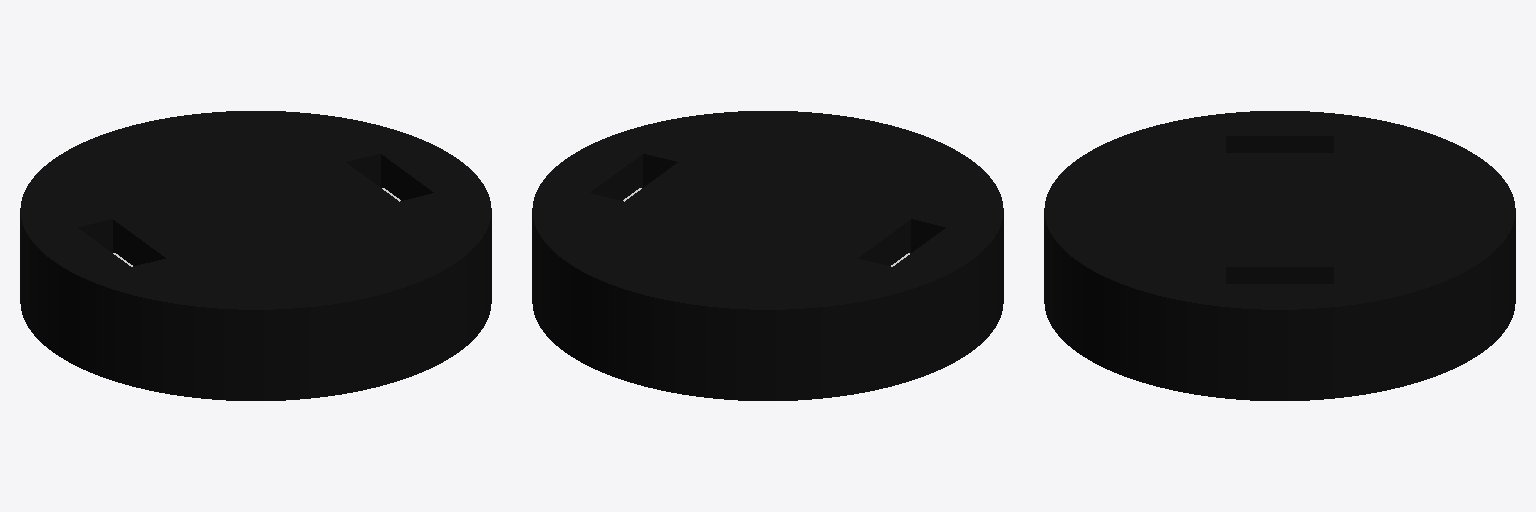
URDF robot description (turtle):
<?xml version="1.0"?>
<robot name="turtle">

<material name="black">
  <color rgba="0.1 0.1 0.1 1"/>
</material>

<material name="white">
  <color rgba="0.9 0.9 0.9 1"/>
</material>


  <link name="base">
    <visual>
      <origin rpy="0 0 0" xyz="0 0 -0.0505"/>
      <geometry>
    	<mesh filename="package://rl_turtle/meshes/kobuki-base.stl" scale="0.001 0.001 0.001"/>
      </geometry>
      <material name="black"/>
    </visual>
    
    <collision>
     <origin rpy="0 0 0" xyz="0 0 0"/>
      <geometry>
        <mesh filename="package://rl_turtle/meshes/kobuki-base.stl" scale="0.001 0.001 0.001"/>
      </geometry>
    </collision>
    
    <inertial>
      <mass value="10"/>
      <inertia ixx="0.4" ixy="0.0" ixz="0.0" iyy="0.4" iyz="0.0" izz="0.2"/>
    </inertial>
  </link>
  
  <link name="wheel_holder_1">
    <visual>
      <origin rpy="0 0 0" xyz="-0.115 0 -0.070"/>
      <geometry>
    	<mesh filename="package://rl_turtle/meshes/kobuki-wheel-holder-1.stl" scale="0.001 0.001 0.001"/>
      </geometry>
      <material name="white"/>
    </visual>
    
    <collision>
     <origin rpy="0 0 0" xyz="-0.115 0 -0.070"/>
      <geometry>
        <mesh filename="package://rl_turtle/meshes/kobuki-wheel-holder-1.stl" scale="0.001 0.001 0.001"/>
      </geometry>
    </collision>
    
    <inertial>
      <mass value="10"/>
      <inertia ixx="0.4" ixy="0.0" ixz="0.0" iyy="0.4" iyz="0.0" izz="0.2"/>
    </inertial>
  </link>
  
  <link name="wheel_holder_2">
    <visual>
      <origin rpy="0 0 0" xyz="-0.115 0 -0.070"/>
      <geometry>
    	<mesh filename="package://rl_turtle/meshes/kobuki-wheel-holder-1.stl" scale="0.001 0.001 0.001"/>
      </geometry>
      <material name="white"/>
    </visual>
    
    <collision>
     <origin rpy="0 0 0" xyz="-0.115 0 -0.070"/>
      <geometry>
        <mesh filename="package://rl_turtle/meshes/kobuki-wheel-holder-1.stl" scale="0.001 0.001 0.001"/>
      </geometry>
    </collision>
    
    <inertial>
      <mass value="10"/>
      <inertia ixx="0.4" ixy="0.0" ixz="0.0" iyy="0.4" iyz="0.0" izz="0.2"/>
    </inertial>
  </link>
  
  <link name="wheel_1">
    <visual>
      <origin rpy="0 0 0" xyz="-0.115 0 -0.0335"/>
      <geometry>
    	<mesh filename="package://rl_turtle/meshes/kobuki-wheel-1.stl" scale="0.001 0.001 0.001"/>
      </geometry>
      <material name="black"/>
    </visual>
    
    <collision>
     <origin rpy="0 0 0" xyz="-0.115 0 -0.0335"/>
      <geometry>
        <mesh filename="package://rl_turtle/meshes/kobuki-wheel-1.stl" scale="0.001 0.001 0.001"/>
      </geometry>
    </collision>
    
    <inertial>
      <mass value="10"/>
      <inertia ixx="0.4" ixy="0.0" ixz="0.0" iyy="0.4" iyz="0.0" izz="0.2"/>
    </inertial>
  </link>
  
  
  <link name="wheel_2">
    <visual>
      <origin rpy="0 0 0" xyz="-0.115 0 -0.0335"/>
      <geometry>
    	<mesh filename="package://rl_turtle/meshes/kobuki-wheel-1.stl" scale="0.001 0.001 0.001"/>
      </geometry>
      <material name="black"/>
    </visual>
    
    <collision>
     <origin rpy="0 0 0" xyz="-0.115 0 -0.0335"/>
      <geometry>
        <mesh filename="package://rl_turtle/meshes/kobuki-wheel-1.stl" scale="0.001 0.001 0.001"/>
      </geometry>
    </collision>
    
    <inertial>
      <mass value="10"/>
      <inertia ixx="0.4" ixy="0.0" ixz="0.0" iyy="0.4" iyz="0.0" izz="0.2"/>
    </inertial>
  </link>
  
  
   <link name="small-wheel-1">
    <visual>
      <origin rpy="0 0 0" xyz="0 0.114 -0.013"/>
      <geometry>
    	<mesh filename="package://rl_turtle/meshes/kobuki-small-wheel-1.stl" scale="0.001 0.001 0.001"/>
      </geometry>
      <material name="black"/>
    </visual>
    
    <collision>
     <origin rpy="0 0 0" xyz="0 0.114 -0.013"/>
      <geometry>
        <mesh filename="package://rl_turtle/meshes/kobuki-small-wheel-1.stl" scale="0.001 0.001 0.001"/>
      </geometry>
    </collision>
    
    <inertial>
      <mass value="10"/>
      <inertia ixx="0.4" ixy="0.0" ixz="0.0" iyy="0.4" iyz="0.0" izz="0.2"/>
    </inertial>
  </link>
  
  <link name="small-wheel-2">
    <visual>
      <origin rpy="0 0 0" xyz="0 0.114 -0.013"/>
      <geometry>
    	<mesh filename="package://rl_turtle/meshes/kobuki-small-wheel-1.stl" scale="0.001 0.001 0.001"/>
      </geometry>
      <material name="black"/>
    </visual>
    
    <collision>
     <origin rpy="0 0 0" xyz="0 0.114 -0.013"/>
      <geometry>
        <mesh filename="package://rl_turtle/meshes/kobuki-small-wheel-1.stl" scale="0.001 0.001 0.001"/>
      </geometry>
    </collision>
    
    <inertial>
      <mass value="10"/>
      <inertia ixx="0.4" ixy="0.0" ixz="0.0" iyy="0.4" iyz="0.0" izz="0.2"/>
    </inertial>
  </link>
  
  <joint name="slider1" type="prismatic">
    <parent link="base"/>
    <axis xyz="0 0 1"/>
    <child link="wheel_holder_1"/>
    <dynamics damping="10.0" friction="5.0"/>
    <limit effort="1000.0" lower="-0.009" upper="0.020" velocity="0.5"/>
    <origin rpy="0 0 0" xyz="0.115 0 0.0095"/>
  </joint>
  
  <joint name="slider2" type="prismatic">
    <parent link="base"/>
    <axis xyz="0 0 1"/>
    <child link="wheel_holder_2"/>
    <dynamics damping="10.0" friction="5.0"/>
    <limit effort="1000.0" lower="-0.009" upper="0.020" velocity="0.5"/>
    <origin rpy="0 0 0" xyz="-0.115 0 0.0095"/>
  </joint>
  
  <joint name="rev1" type="continuous">
    <parent link="wheel_holder_1"/>
    <child link="wheel_1"/>
    <dynamics damping="0.1" friction="1.0"/>
    <limit effort="1000.0" lower="-0.38" upper="0" velocity="0.5"/>
    <origin rpy="0 0 0" xyz="0 0 -0.0350"/>
  </joint>
  
  <joint name="rev2" type="continuous">
    <parent link="wheel_holder_2"/>
    <child link="wheel_2"/>
    <dynamics damping="0.1" friction="1.0"/> 
    <limit effort="1000.0" lower="-0.38" upper="0" velocity="0.5"/>
    <origin rpy="0 0 0" xyz="0 0 -0.03500"/>
  </joint>
  
  <joint name="rev3" type="continuous">
    <parent link="base"/>
    <child link="small-wheel-1"/>
    <dynamics damping="0.0" friction="0.1"/>
    <limit effort="1000.0" lower="-0.38" upper="0" velocity="0.5"/>
    <origin rpy="0 0 0" xyz="0 -0.114 -0.0375"/>
  </joint>
  
  <joint name="rev4" type="continuous">
    <parent link="base"/>
    <child link="small-wheel-2"/>
    <dynamics damping="0.0" friction="0.1"/>
    <limit effort="1000.0" lower="-0.38" upper="0" velocity="0.5"/>
    <origin rpy="0 0 0" xyz="0 0.1365 -0.0375"/>
  </joint>
</robot>

--- What the picture shows (computed from the rendered views, not written in the file) ---
The picture shows the robot from 3 angles, left to right: view 1: azimuth 30°, elevation 25°; view 2: azimuth 150°, elevation 25°; view 3: azimuth 270°, elevation 25°; orthographic projection.
Robot: turtle — 7 links, 6 joints (4 continuous, 2 prismatic); root link base; default pose: all joints at 0.
Visible links, largest first — view 1: base; view 2: base; view 3: base.
Link boxes in pixels (x1=…): base: x1=20, y1=111, x2=491, y2=400; base: x1=532, y1=111, x2=1003, y2=400; base: x1=1044, y1=111, x2=1515, y2=400.
Bounding box of the posed robot: 0.35 × 0.35 × 0.0973 m (x, y, z).
7 mesh visuals loaded from 4 distinct referenced files (4 binary STL).